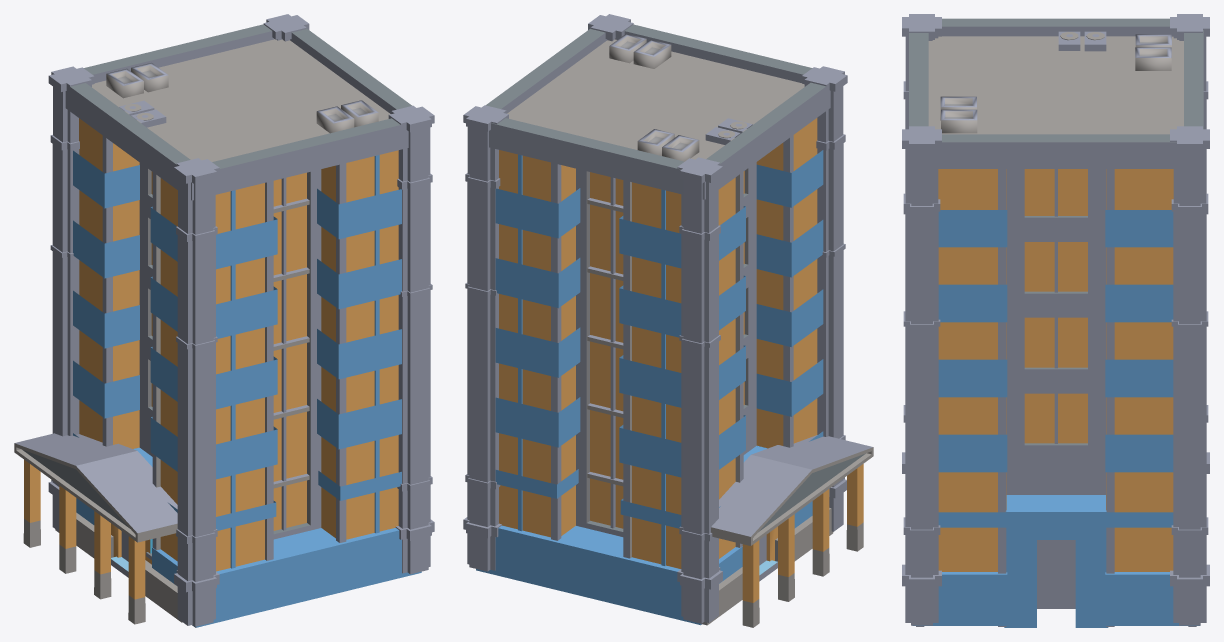
The model's file is putong_zhongxing07.fbx.
3 views of the same model, side by side, from view 1: azimuth 30°, elevation 25°; view 2: azimuth 150°, elevation 25°; view 3: azimuth 270°, elevation 25° (orthographic). The views are drawn at different scales.
Visible parts, largest first — view 1: putong_zhongxing07; view 2: putong_zhongxing07; view 3: putong_zhongxing07.
Part boxes in pixels (<box>): putong_zhongxing07: <box>14,14,434,627</box>; putong_zhongxing07: <box>463,14,873,627</box>; putong_zhongxing07: <box>902,14,1209,627</box>.
Bounding box in the file's own units: 507 × 442 × 782.
